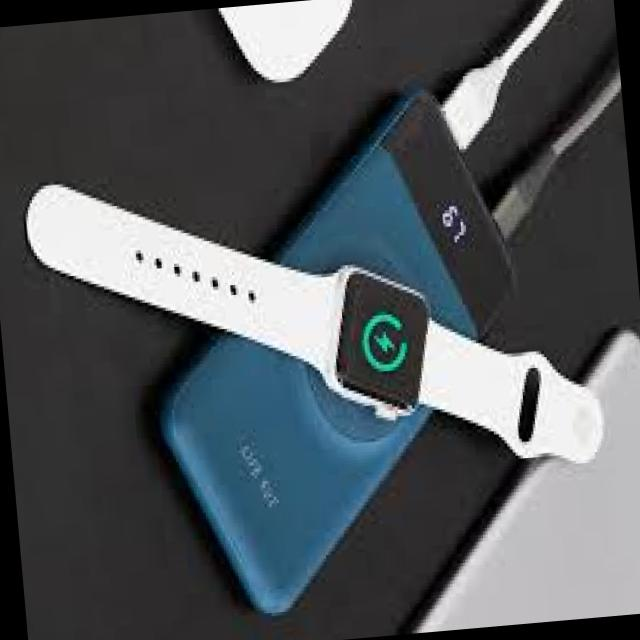portable-charger: (128, 74, 544, 628)
